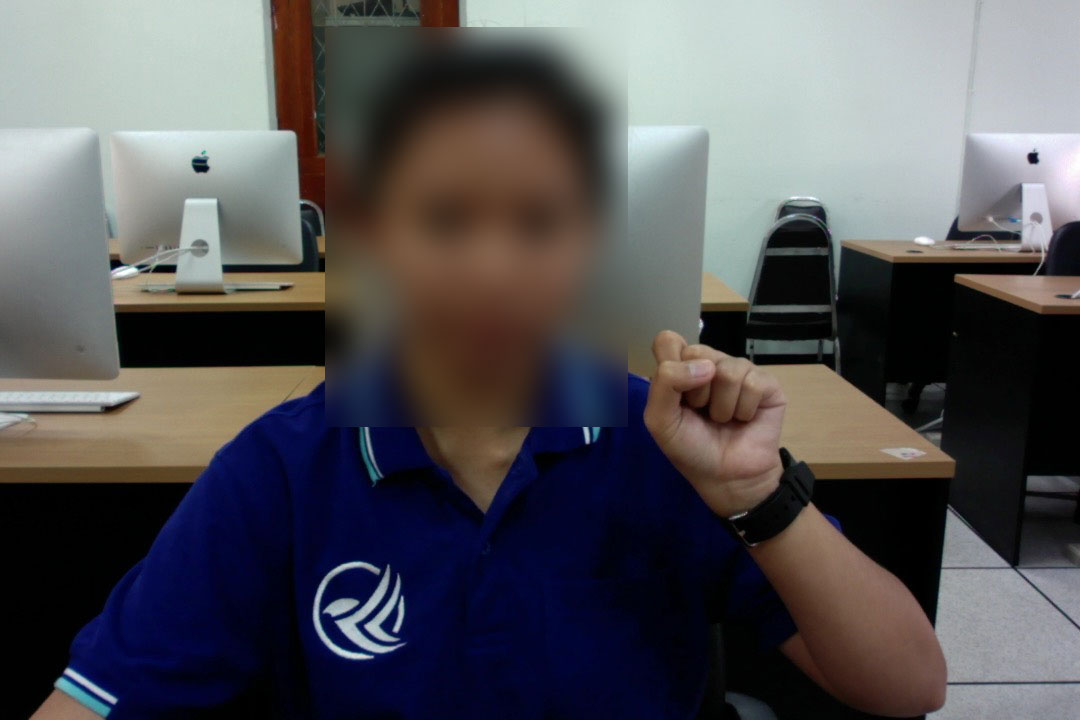sor: (630, 323, 795, 497)
